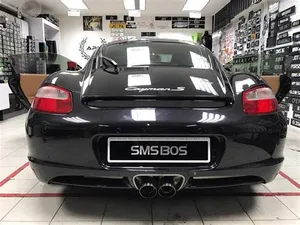number_plate: (92, 130, 232, 174)
